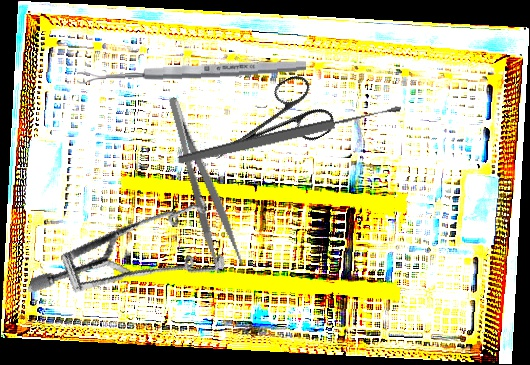Dressing Forceps: (164, 91, 245, 274)
Iris Scissors: (199, 68, 339, 187)
Speculum: (26, 154, 243, 346)
Surgical Spoon: (175, 102, 404, 167), (76, 58, 307, 85)
